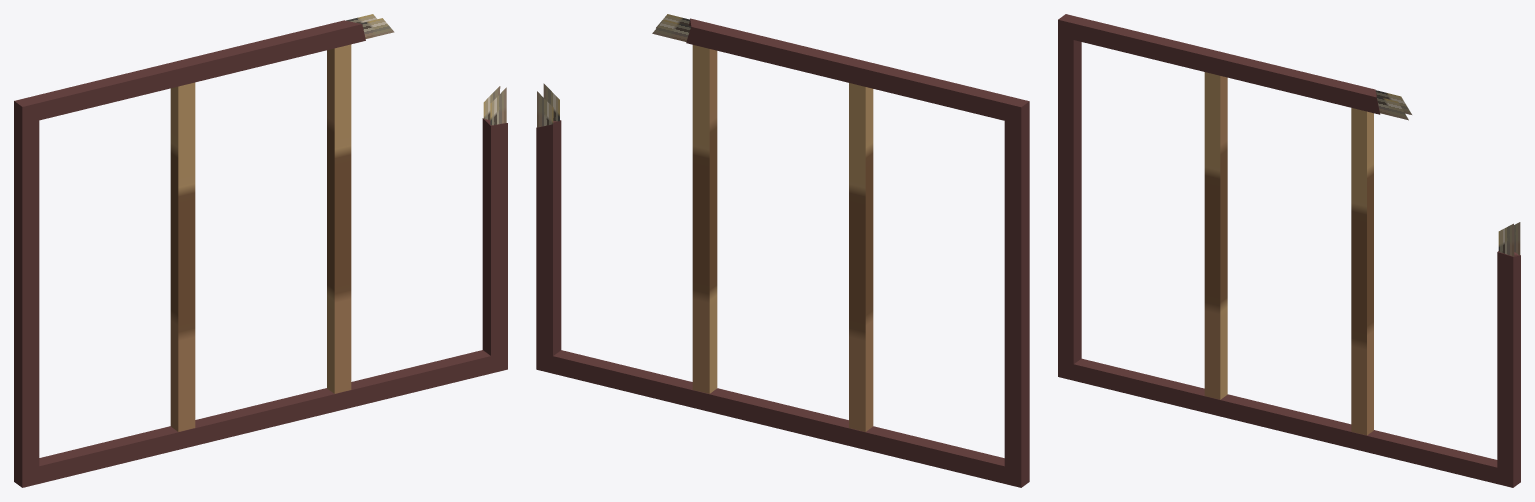
Rendered from DBK_WinWide_Wood_90.fbx.
The picture shows the model from 3 angles, left to right: view 1: azimuth 30°, elevation 25°; view 2: azimuth 150°, elevation 25°; view 3: azimuth 330°, elevation 25°; orthographic projection. The views are drawn at different scales.
Parts seen in each view (by area): view 1: DBK_WinWide_Wood_90; view 2: DBK_WinWide_Wood_90; view 3: DBK_WinWide_Wood_90.
Boxes of the visible parts, x1=… form: DBK_WinWide_Wood_90: x1=14, y1=14, x2=507, y2=487; DBK_WinWide_Wood_90: x1=536, y1=14, x2=1029, y2=487; DBK_WinWide_Wood_90: x1=1058, y1=14, x2=1520, y2=487.
Bounding box in the file's own units: 160 × 120 × 4.75.
